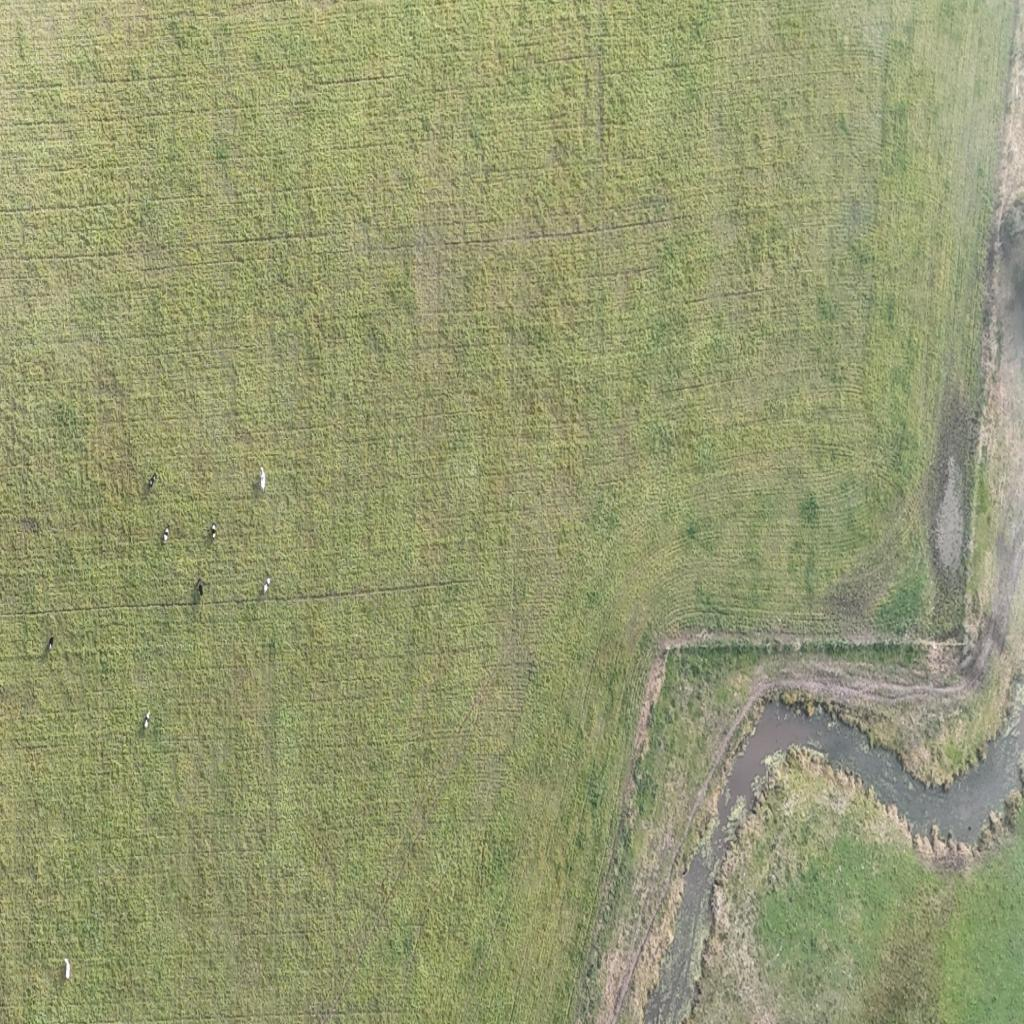cow: (256, 467, 268, 493), (63, 958, 72, 980), (262, 577, 270, 595), (149, 474, 158, 490), (197, 578, 204, 598), (145, 712, 152, 732), (210, 523, 217, 540), (48, 636, 54, 653), (163, 527, 169, 543)
